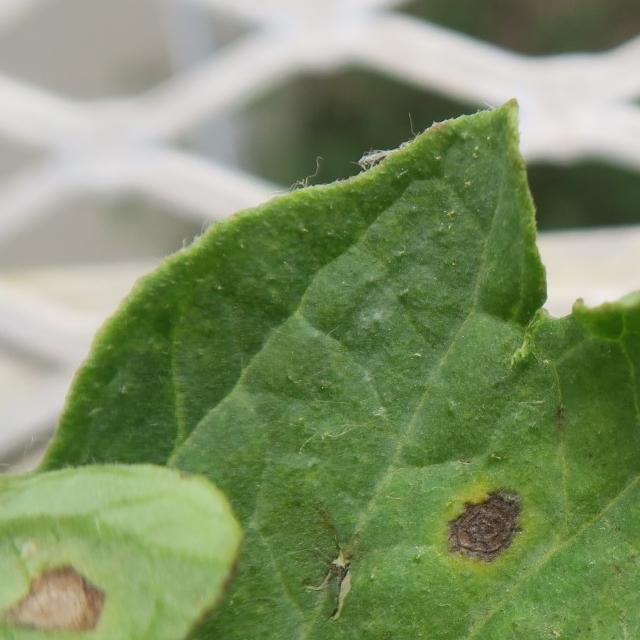Tomato Early blight leaf: (0, 123, 640, 640)
